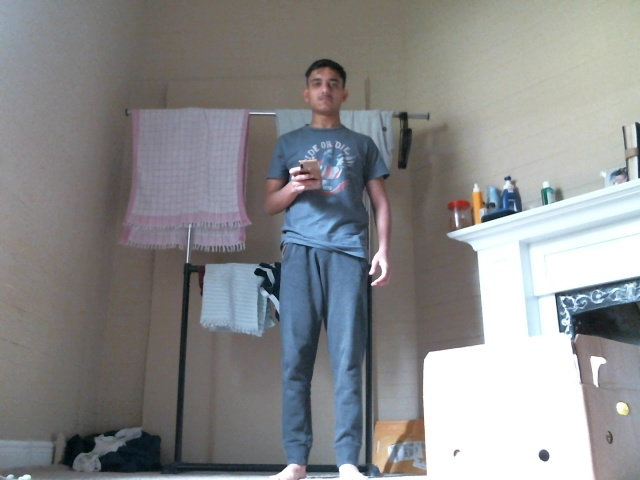person: (271, 59, 388, 480)
